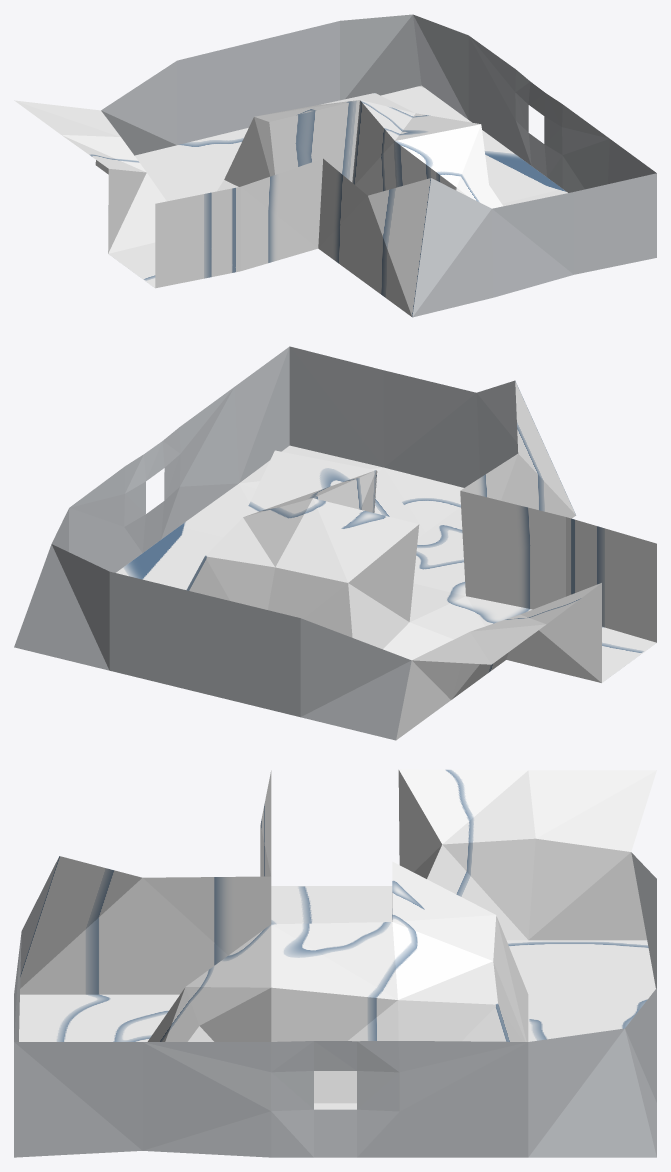
The model's file is level_1_sclupt.dae.
3 renders of one model, top to bottom at view 1: azimuth 30°, elevation 25°; view 2: azimuth 150°, elevation 25°; view 3: azimuth 270°, elevation 25°, orthographic. The views are drawn at different scales.
Parts seen in each view (by area): view 1: Plane; view 2: Plane; view 3: Plane.
Boxes of the visible parts, x1=… form: Plane: x1=14, y1=14, x2=656, y2=317; Plane: x1=14, y1=346, x2=656, y2=740; Plane: x1=14, y1=769, x2=656, y2=1157.
Size of the model in its own units: 151 by 151 by 42.1.
Materials: 1 (1 with a texture image).
